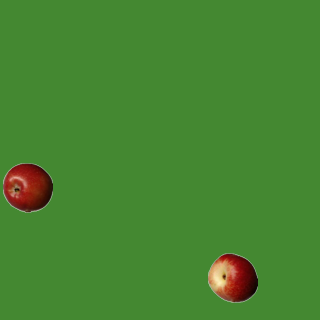Apple Braeburn: (2, 162, 52, 212)
Nectarine: (207, 252, 257, 302)
